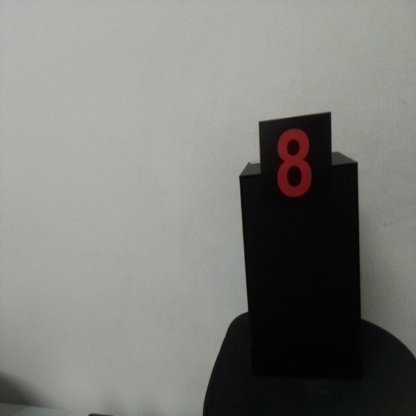id_8: (260, 121, 333, 226)
